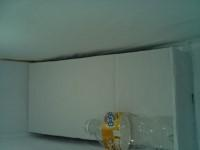bottle: (82, 112, 170, 149)
